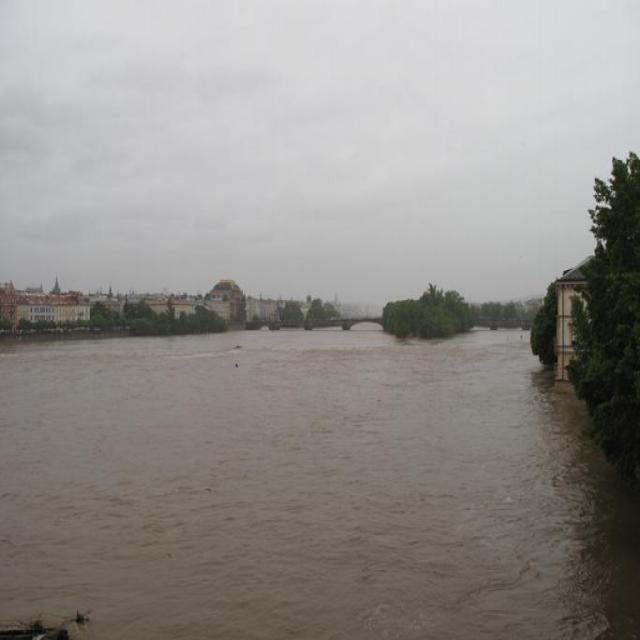flood: (2, 307, 640, 640)
